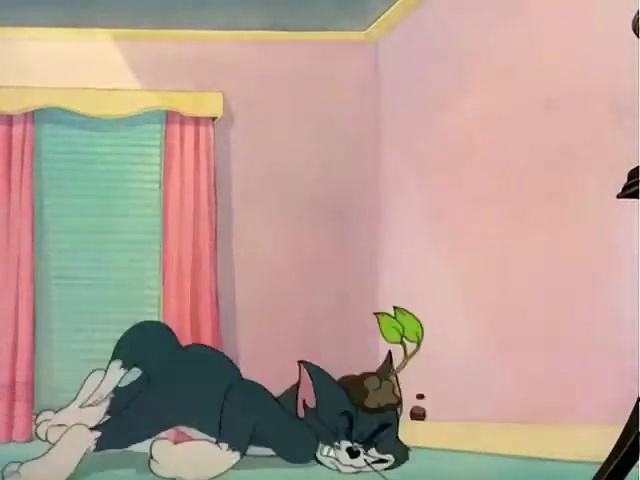tom: (22, 284, 458, 476)
